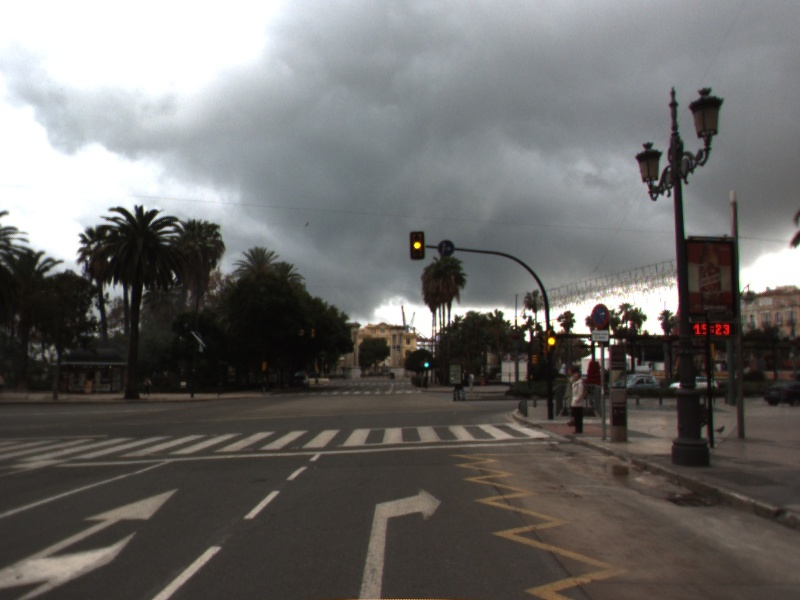RIGHT: (356, 481, 445, 600)
STRAIGHT_RIGHT: (1, 482, 185, 600)
